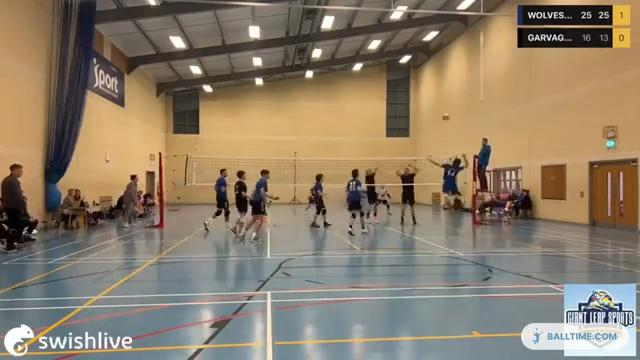attacco: (424, 149, 471, 212)
